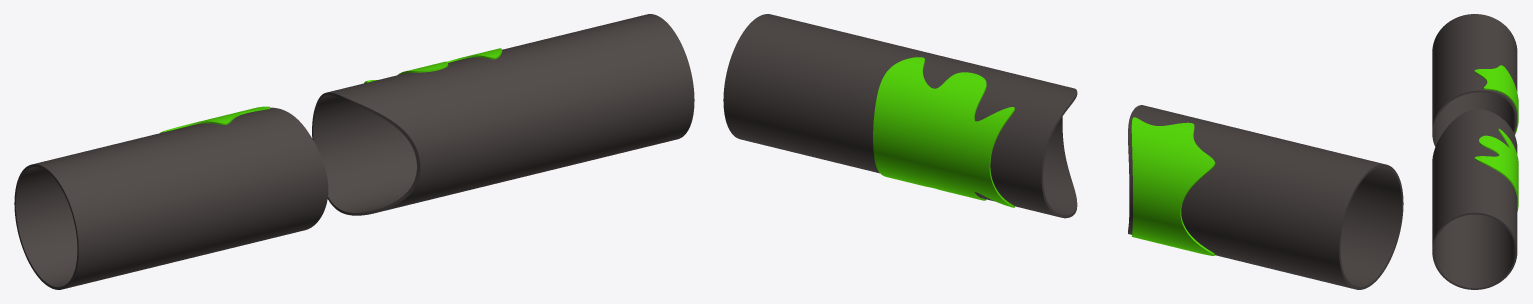
File: ONG CONG.fbx
The picture shows the model from 3 angles, left to right: view 1: azimuth 30°, elevation 25°; view 2: azimuth 150°, elevation 25°; view 3: azimuth 270°, elevation 25°; orthographic projection. The views are drawn at different scales.
Visible parts, largest first — view 1: ong nuoc (×4); view 2: ong nuoc (×4); view 3: ong nuoc (×4).
Boxes of the visible parts, x1,y1,x2,y2 form: ong nuoc (×4): [14, 14, 694, 289]; ong nuoc (×4): [723, 14, 1403, 289]; ong nuoc (×4): [1432, 14, 1518, 289].
Bounding box in the file's own units: 400 × 74.61 × 73.51.
